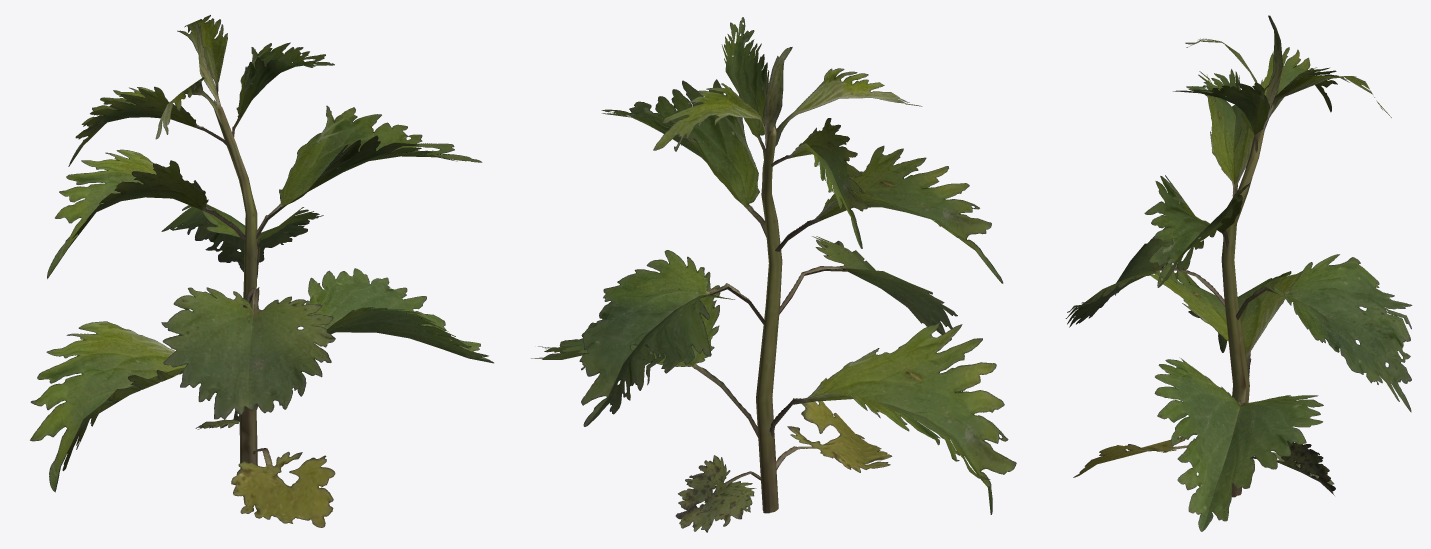
File: nettle_plant_small_a_LOD1.glb
The picture shows the model from 3 angles, left to right: view 1: azimuth 30°, elevation 25°; view 2: azimuth 150°, elevation 25°; view 3: azimuth 270°, elevation 25°; orthographic projection. The views are drawn at different scales.
Visible parts, largest first — view 1: nettle_plant_small_a_LOD1__lod0; view 2: nettle_plant_small_a_LOD1__lod0; view 3: nettle_plant_small_a_LOD1__lod0.
Boxes of the visible parts, <box> form: nettle_plant_small_a_LOD1__lod0: <box>30,15,493,527</box>; nettle_plant_small_a_LOD1__lod0: <box>531,17,1016,532</box>; nettle_plant_small_a_LOD1__lod0: <box>1065,15,1412,531</box>.
Size of what is drawn, in the model's own units: 0.0659 by 0.0626 by 0.044.
1 material, 1 textured.
